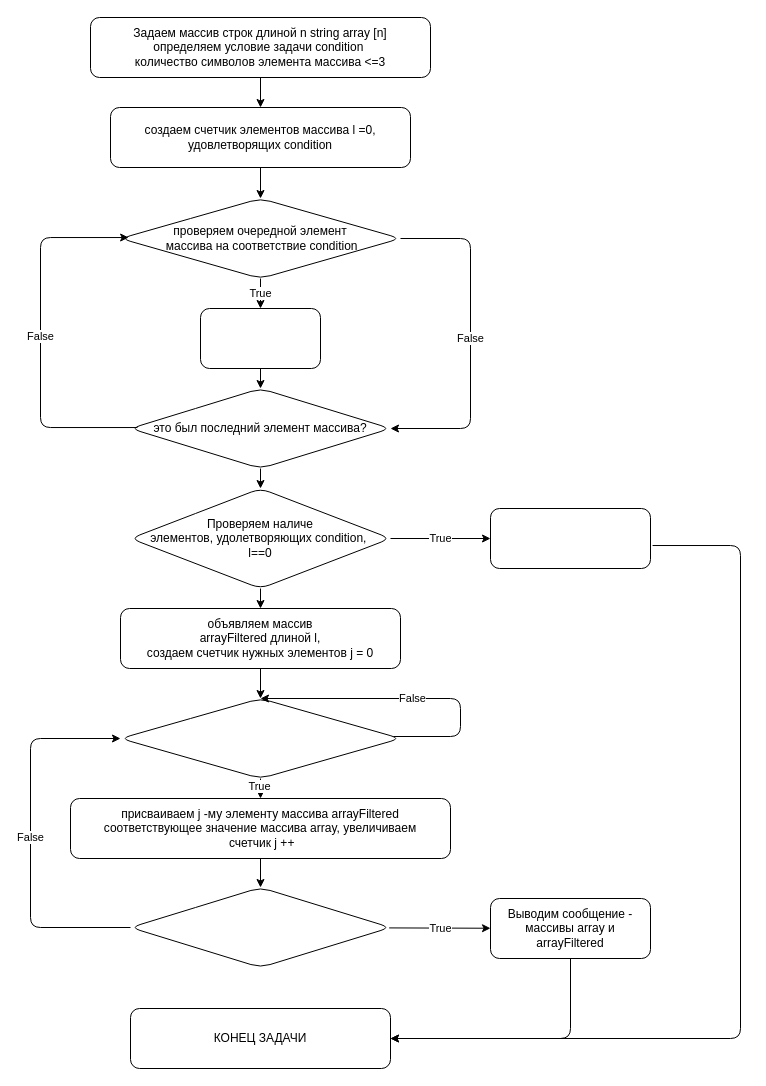
Image size: 766x1086. Some labels were removed from this diagram. The centre of each missing label's shape, as x and y in pixels:
Все ли элементы, соответствующие condition, выбраны? j==l: pixel 260 927
выводим сообщение "Нет эелементов": pixel 570 538
проверяем очередной элементы массива на соответствие condition: pixel 260 738
увеличиваем счетчик l ++: pixel 260 338
